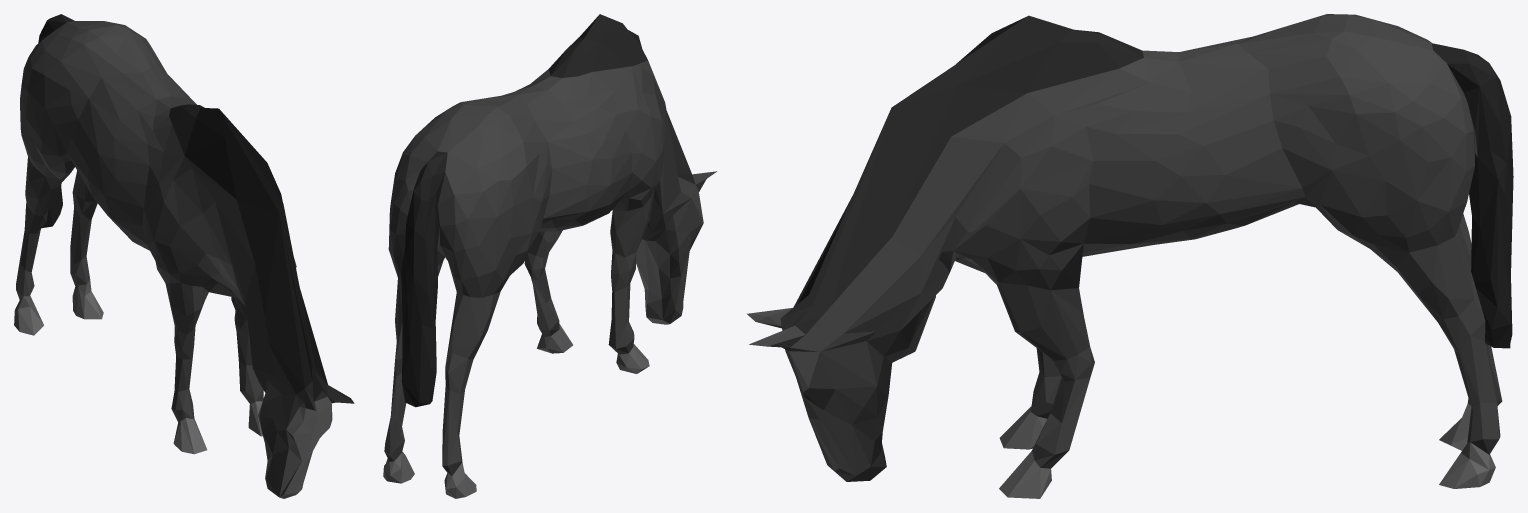
File: animal_006.glb
3 renders of one model, left to right at view 1: azimuth 30°, elevation 25°; view 2: azimuth 150°, elevation 25°; view 3: azimuth 270°, elevation 25°, orthographic. The views are drawn at different scales.
Parts seen in each view (by area): view 1: animal_006; view 2: animal_006; view 3: animal_006.
Boxes of the visible parts, left/top/right/bottom form: animal_006: left=14, top=14, right=354, bottom=498; animal_006: left=383, top=14, right=716, bottom=498; animal_006: left=747, top=14, right=1513, bottom=498.
Size of the model in its own units: 1.12 by 2.97 by 4.45.
1 material, 1 textured.
